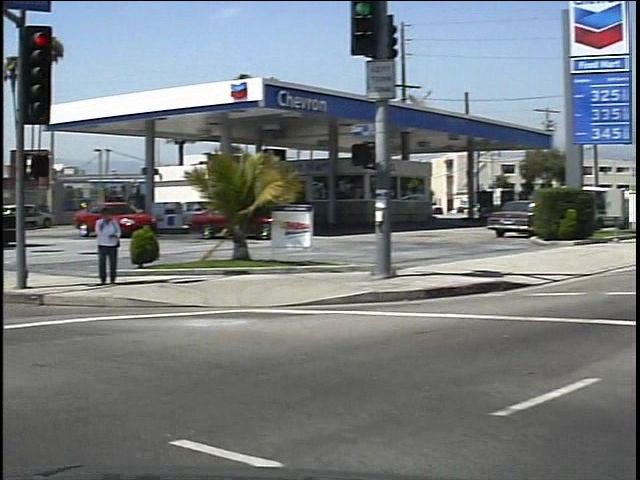person: (83, 202, 116, 291)
